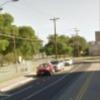cars: (35, 62, 55, 78)
chimneys: (55, 18, 58, 36)
